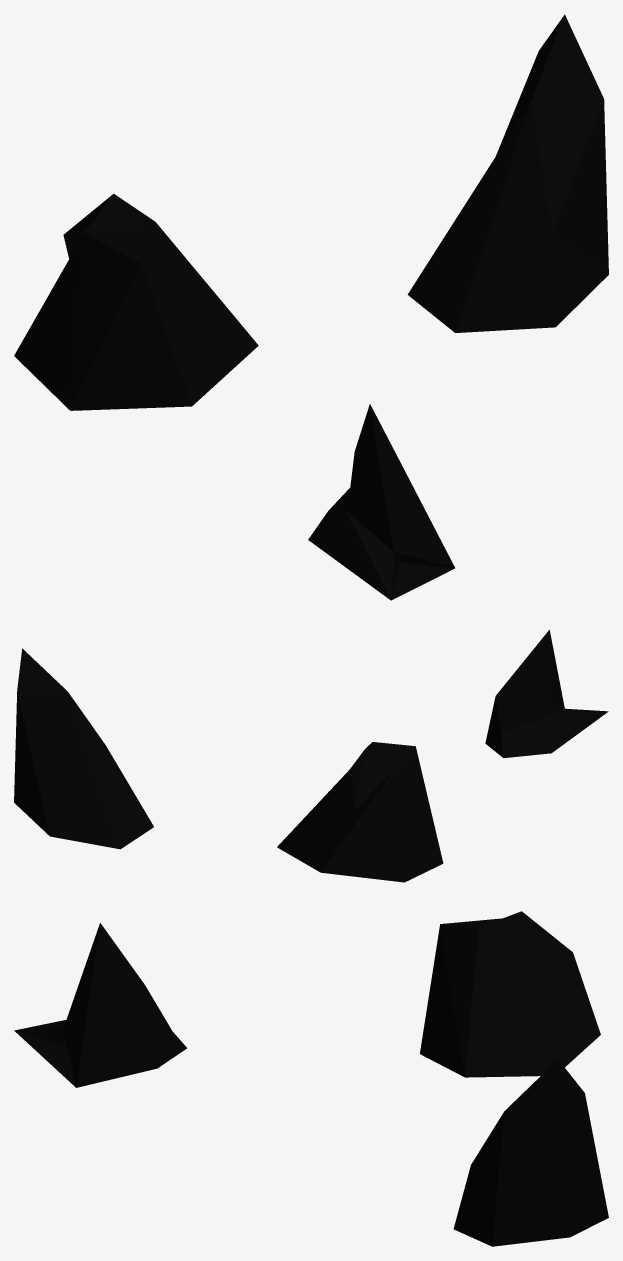
Rendered from desert_plane_rock02.FBX.
3 views of the same model, one above another, from view 1: azimuth 30°, elevation 25°; view 2: azimuth 150°, elevation 25°; view 3: azimuth 270°, elevation 25° (orthographic). The views are drawn at different scales.
Parts seen in each view (by area): view 1: rock002; view 2: rock002; view 3: rock002.
Part boxes in pixels (x1=…): rock002: x1=14, y1=14, x2=608, y2=600; rock002: x1=14, y1=630, x2=608, y2=882; rock002: x1=14, y1=911, x2=608, y2=1246.
Size of the model in its own units: 28.42 by 12.27 by 32.59.
Materials: 1 (1 with a texture image).
